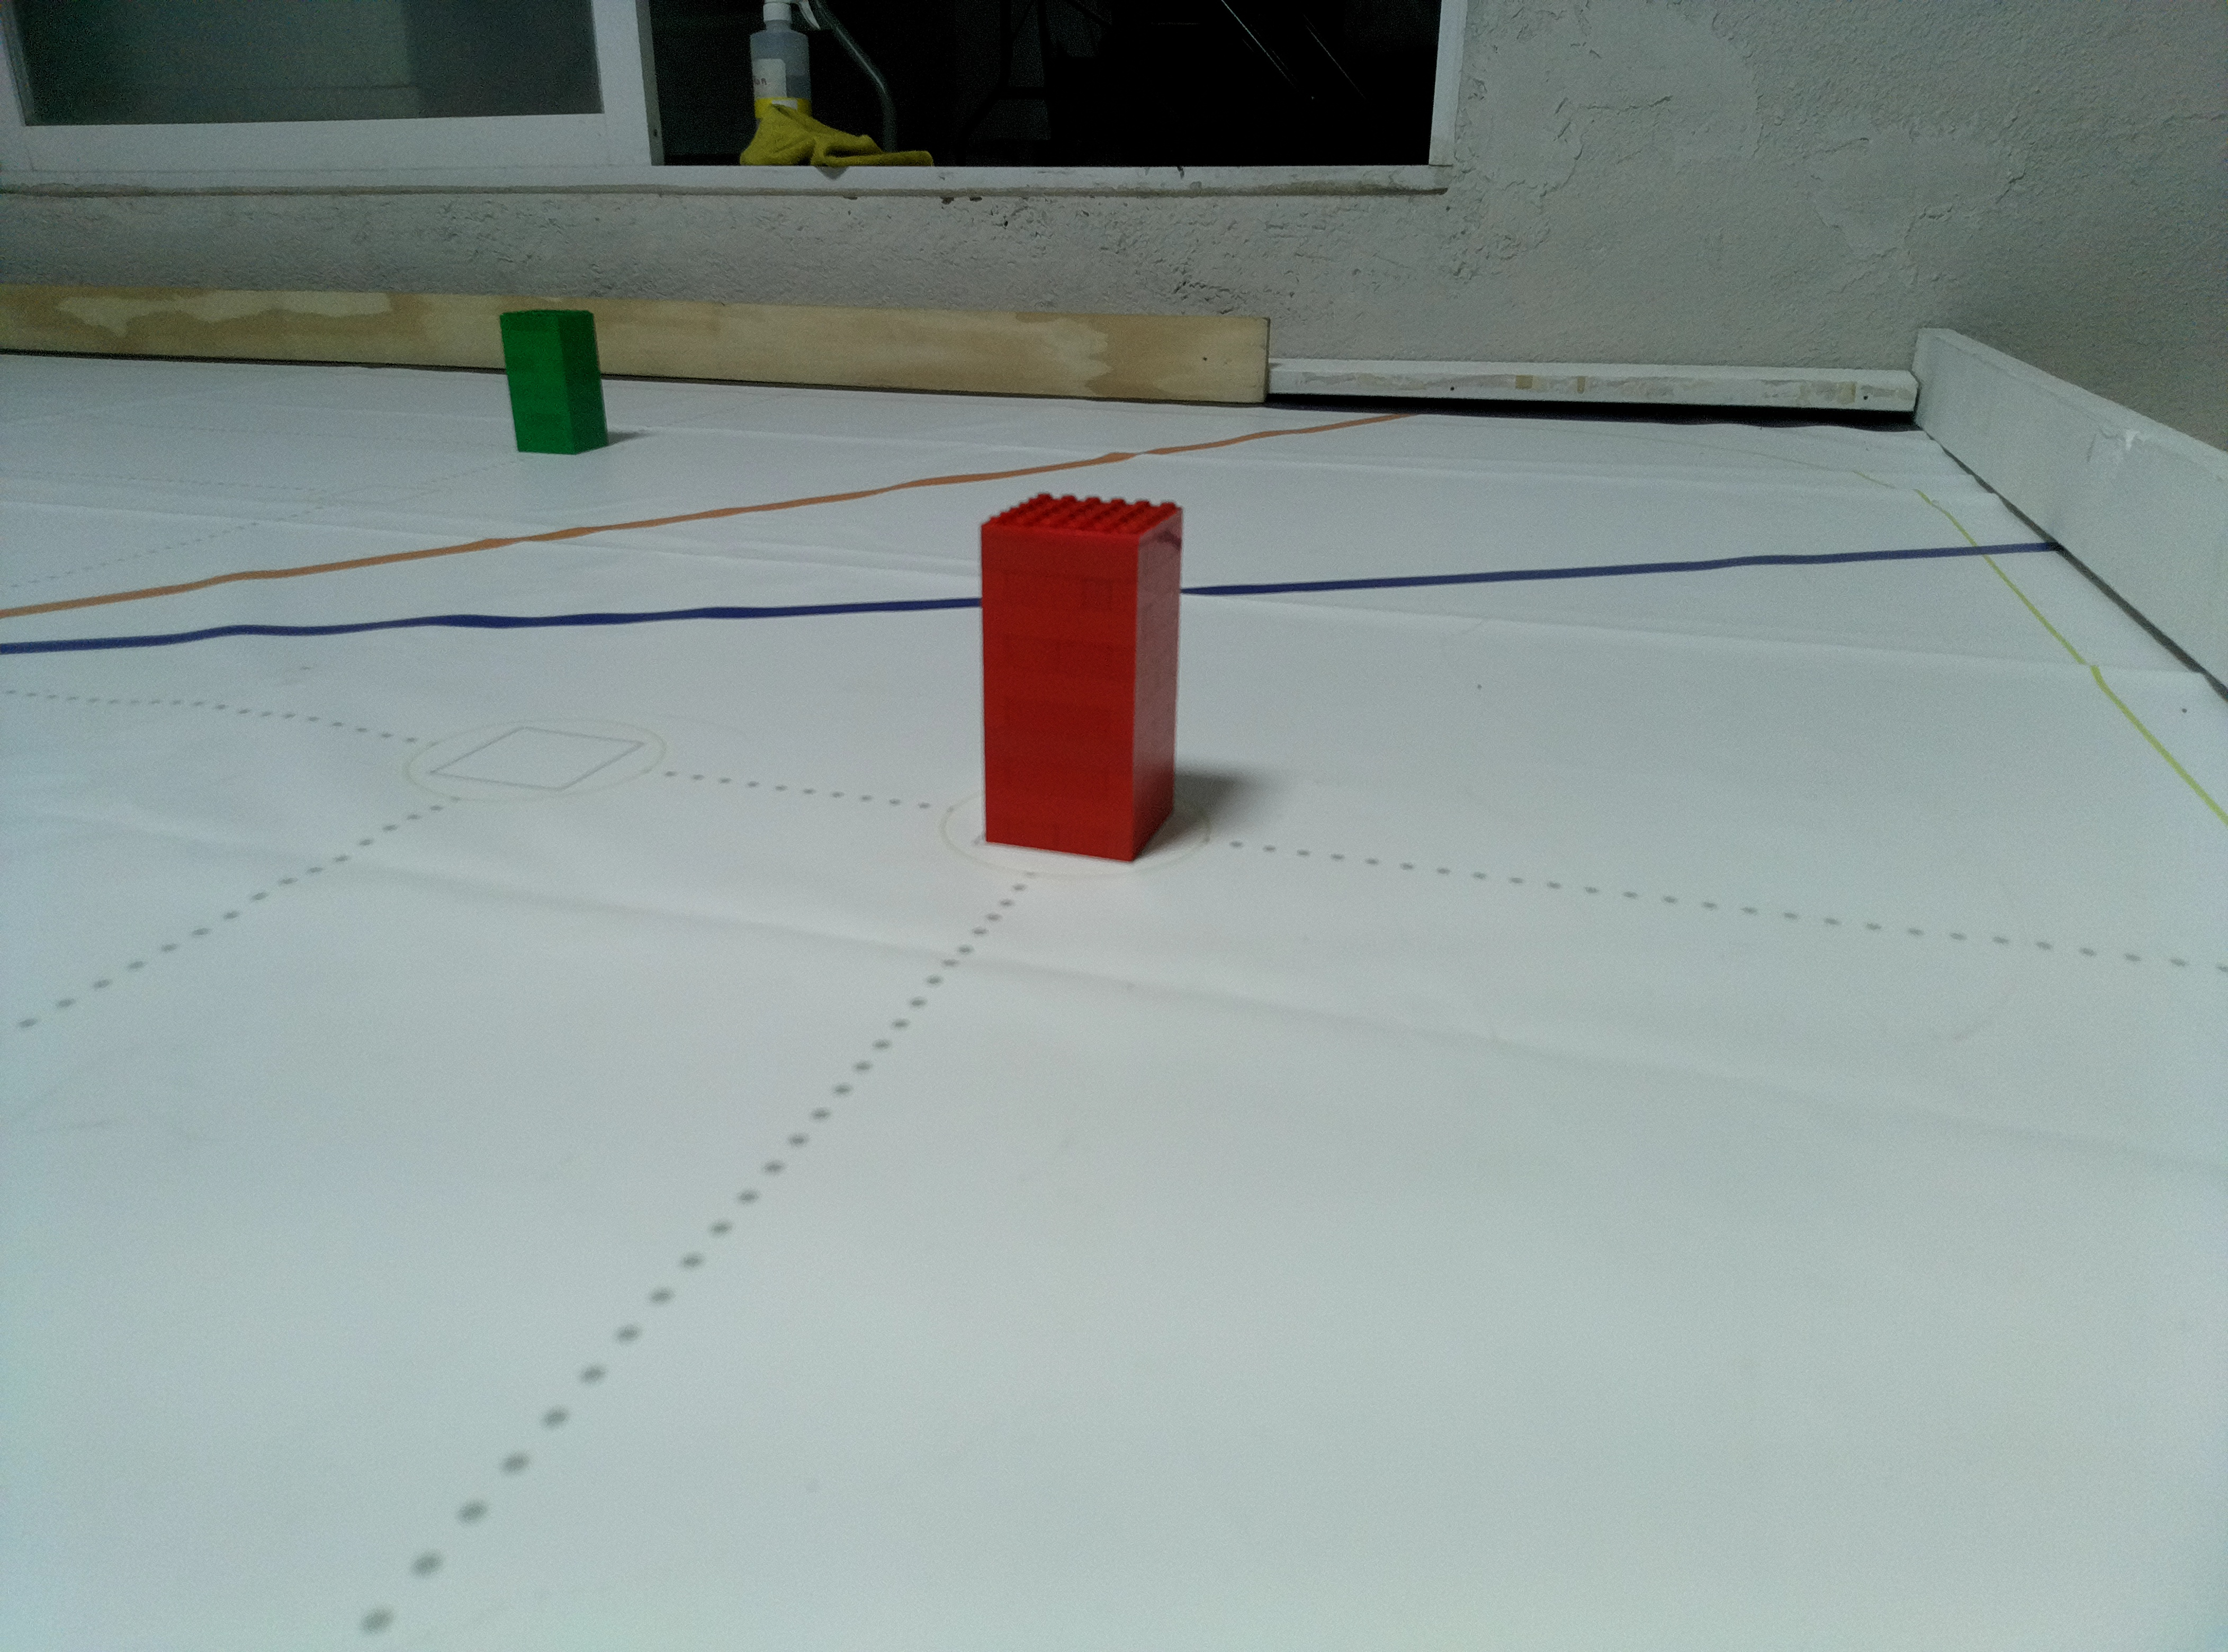greenbox: (496, 307, 611, 458)
redbox: (979, 482, 1187, 866)
